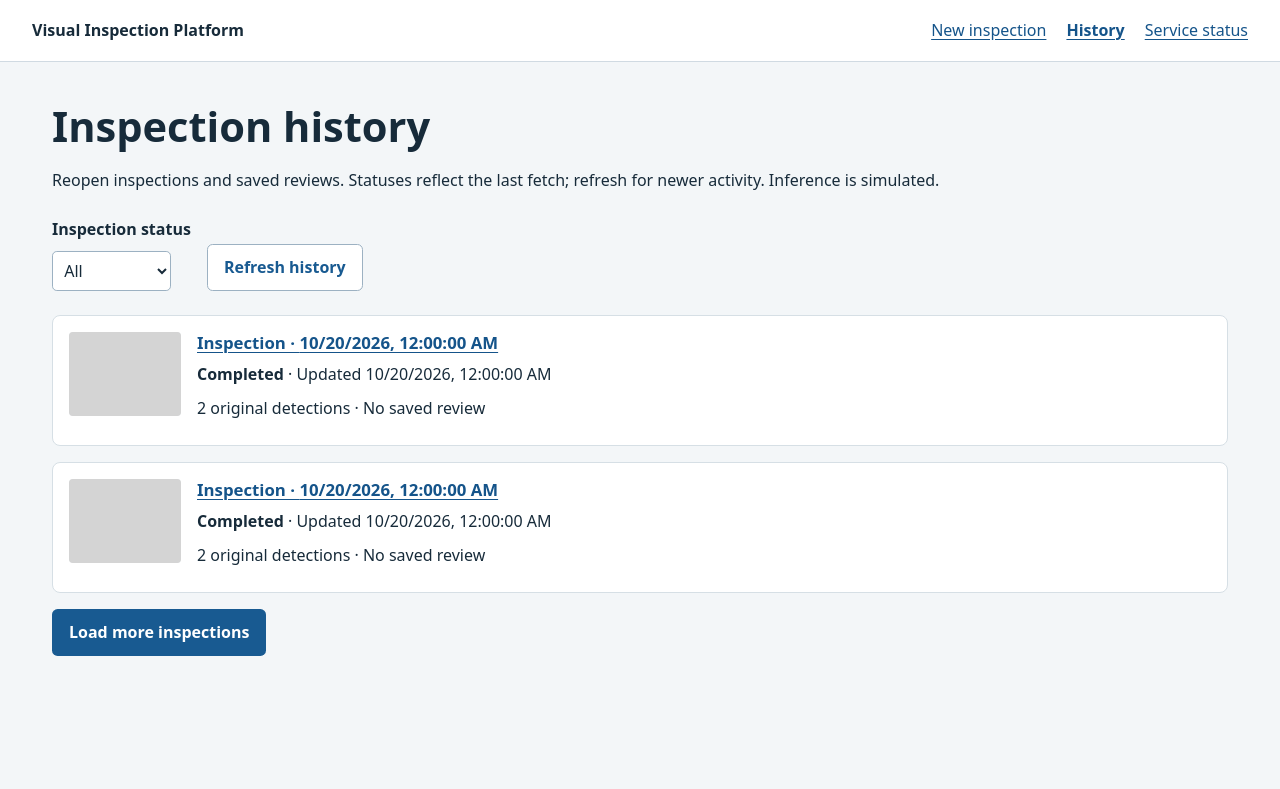
Test: inspection history › preserves loaded pages after a page failure and retries the same cursor without duplication
Expected: the number of list items is 2, top-left (52, 315), bottom-right (1228, 446); top-left (52, 462), bottom-right (1228, 593)
Click the button "Load more inspections".
click(159, 633)  # box top-left (52, 609), bottom-right (266, 656)
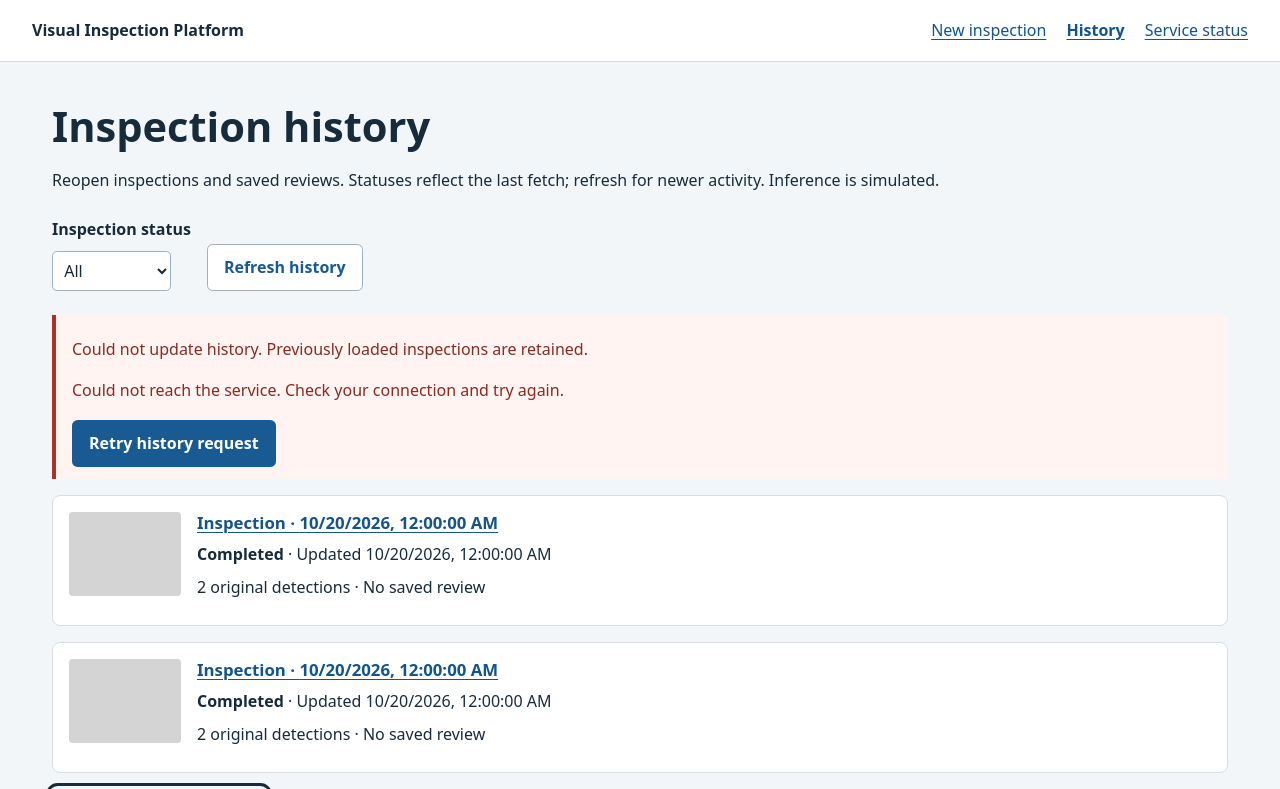
Expected: the number of list items is 2, top-left (52, 495), bottom-right (1228, 626); top-left (52, 642), bottom-right (1228, 773)
Expected: the message shows "Previously loaded inspections are retained", top-left (72, 338), bottom-right (588, 360)
Click the button "Retry history request".
click(174, 443)  # box top-left (72, 420), bottom-right (276, 467)
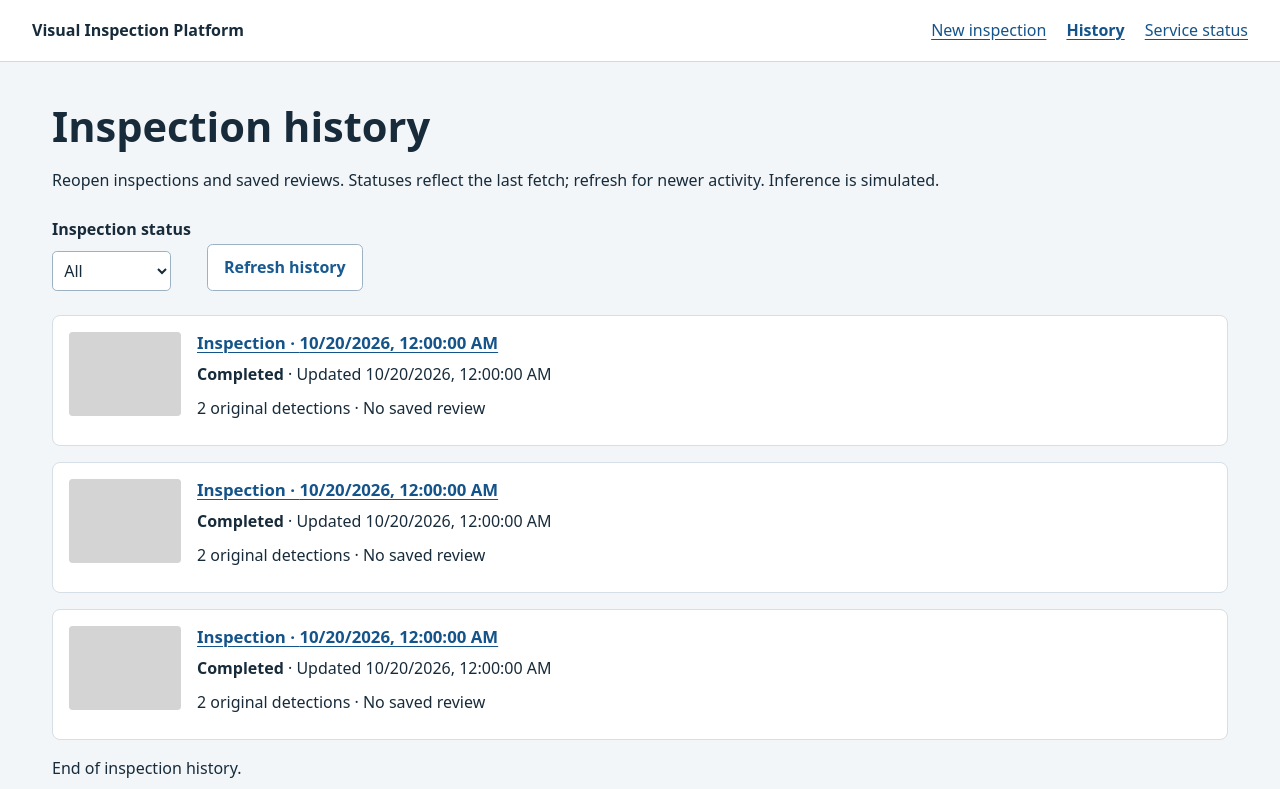
Expected: the number of list items is 3, top-left (52, 315), bottom-right (1228, 446); top-left (52, 462), bottom-right (1228, 593); top-left (52, 609), bottom-right (1228, 740)
Expected: the text "End of inspection history." is shown, top-left (52, 757), bottom-right (242, 779)
